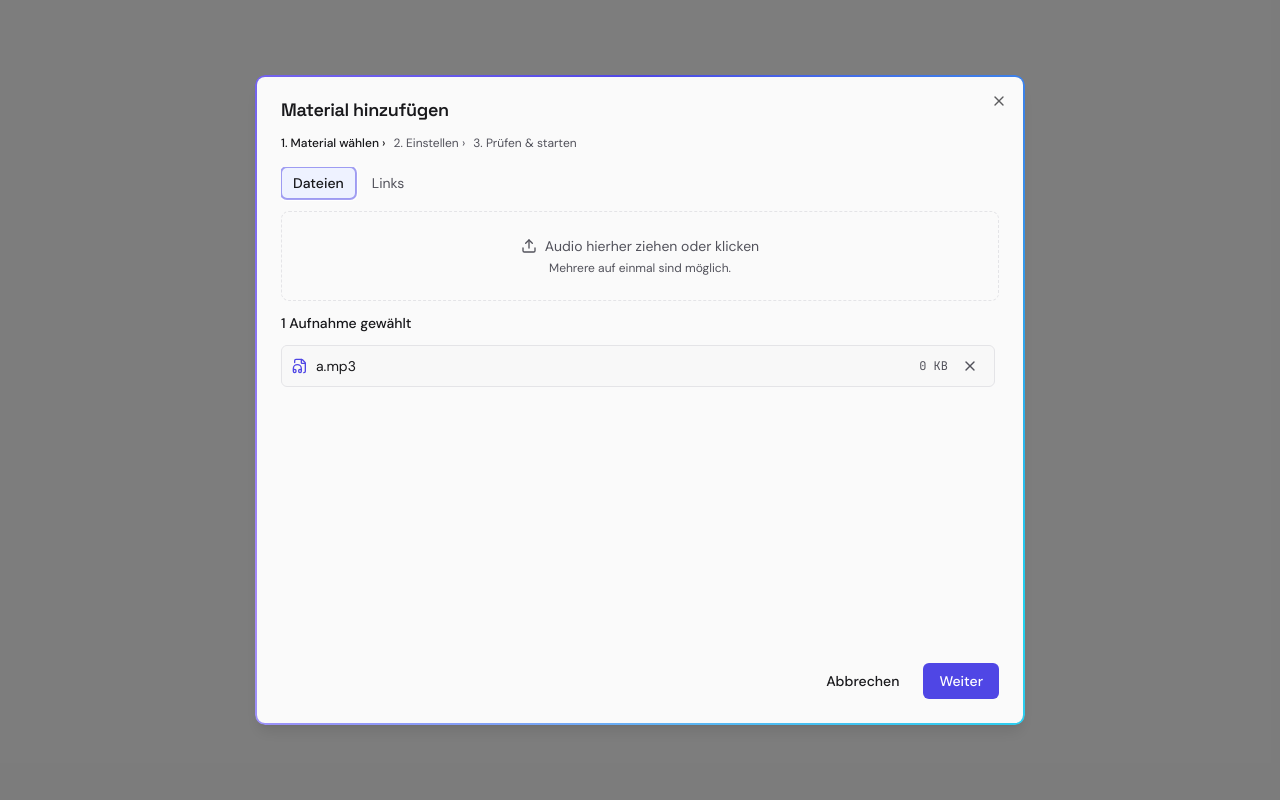
Scenario: MaterialDialog › erklaert EINMAL, warum die Sprache nicht waehlbar ist (#305)
Step 1. Click the button "Weiter" → [961, 681], box [923,663,999,699]
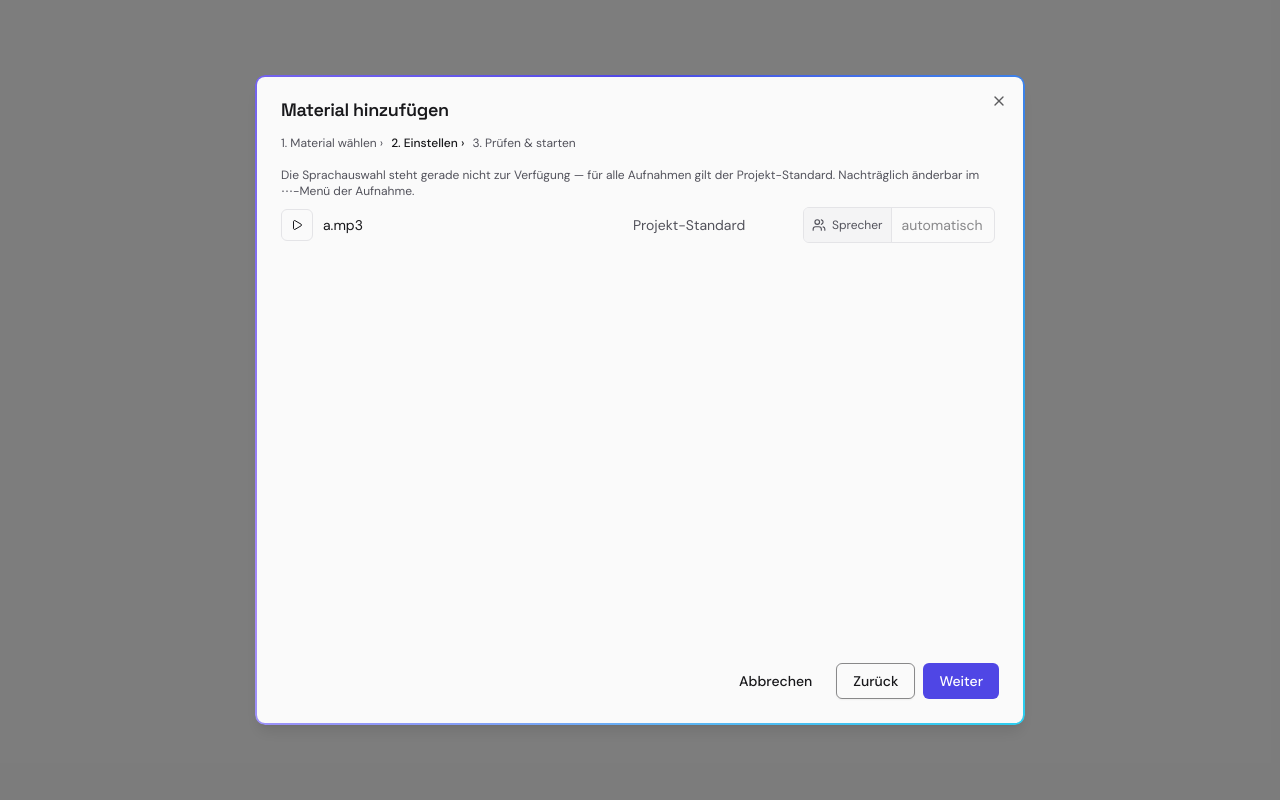
expect the text "Sprachauswahl steht gerade nicht zur Verfügung" is shown: met, box [281,167,979,199]
